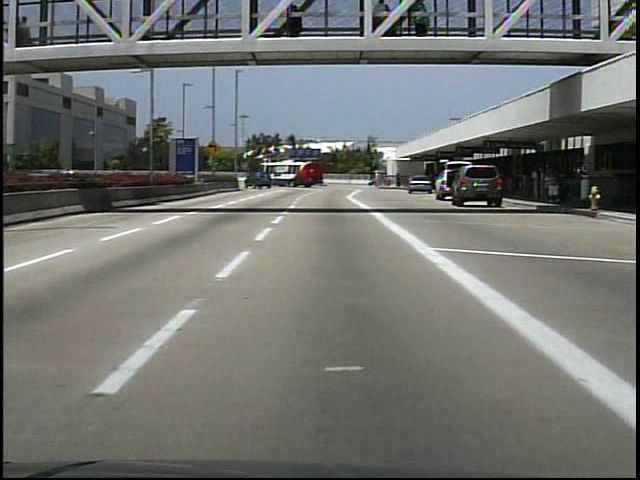person: (542, 159, 565, 207), (285, 9, 308, 41)
